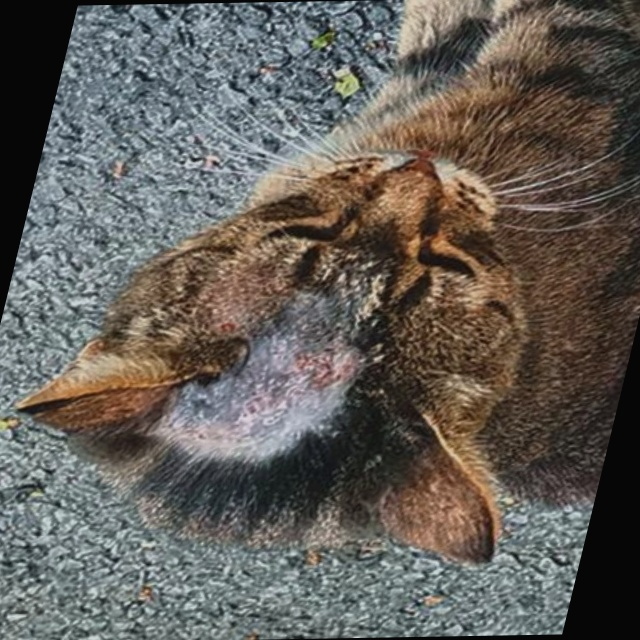ringworm: (143, 266, 382, 469)
